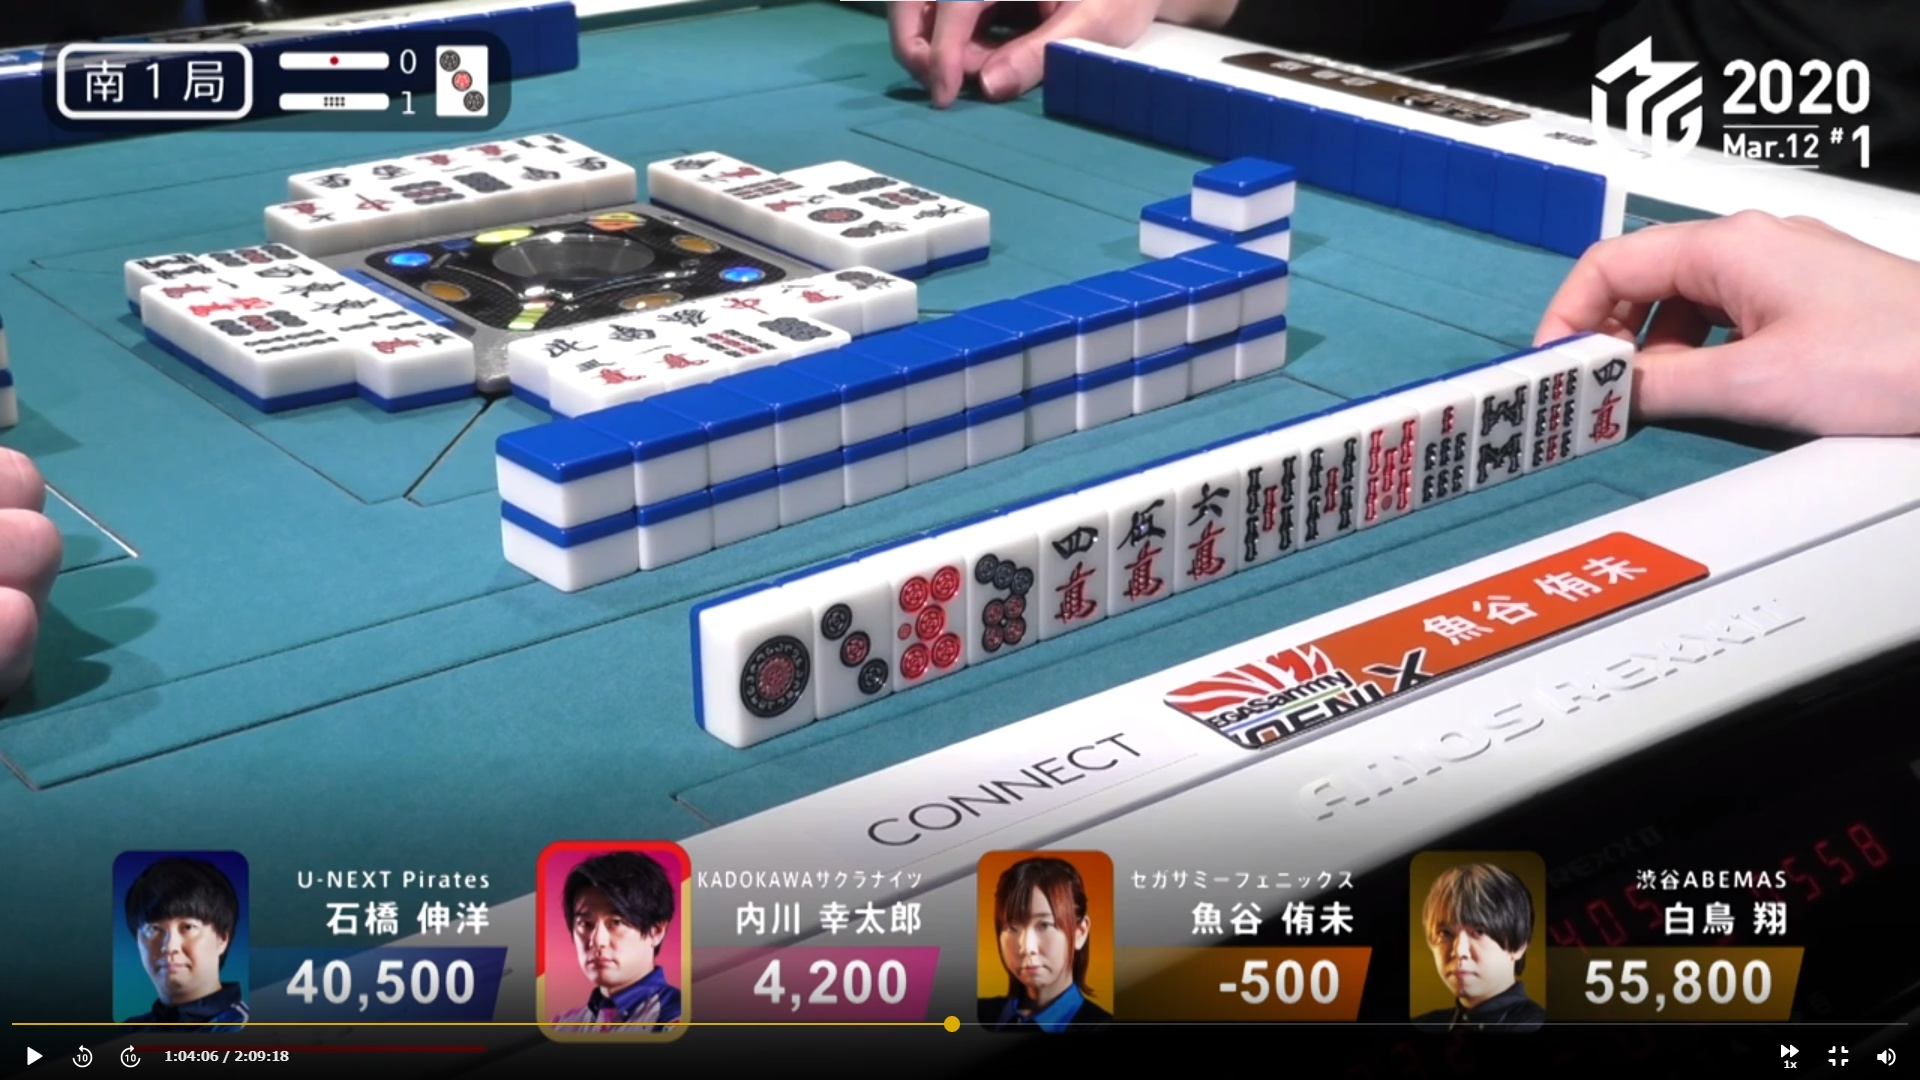1p: (719, 593, 811, 732)
3p: (814, 572, 894, 715)
4m: (1040, 508, 1105, 638), (1580, 332, 1630, 454)
5m: (1112, 483, 1174, 611)
5pr: (895, 553, 963, 682)
5s: (1298, 415, 1360, 546), (1242, 440, 1298, 568)
5sr: (1358, 396, 1418, 530)
6m: (1175, 458, 1237, 589)
6s: (1420, 382, 1468, 506)
7p: (965, 529, 1033, 661)
8s: (1474, 367, 1524, 487)
9s: (1526, 348, 1576, 471)
hand_nan_1: (51, 40, 264, 121)
round_1: (269, 84, 425, 116)
team_segasammy: (1160, 609, 1447, 750)
